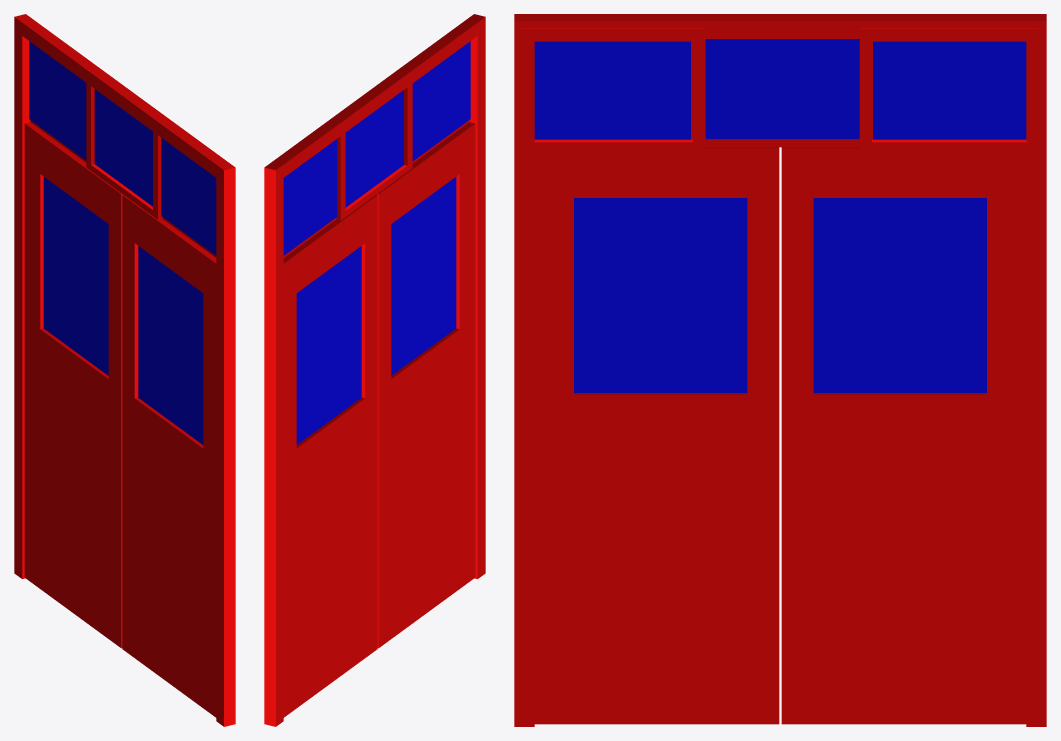
The model's file is double_doors.FBX.
3 renders of one model, left to right at view 1: azimuth 30°, elevation 25°; view 2: azimuth 150°, elevation 25°; view 3: azimuth 270°, elevation 25°, orthographic. The views are drawn at different scales.
Parts seen in each view (by area): view 1: Frames002; view 2: Frames002; view 3: Frames002.
Boxes of the visible parts, box(x1,y1,x2,y2) form: Frames002: box(14, 14, 235, 726); Frames002: box(264, 14, 485, 726); Frames002: box(514, 14, 1046, 726).
Bounding box in the file's own units: 847 × 36670 × 25055.
